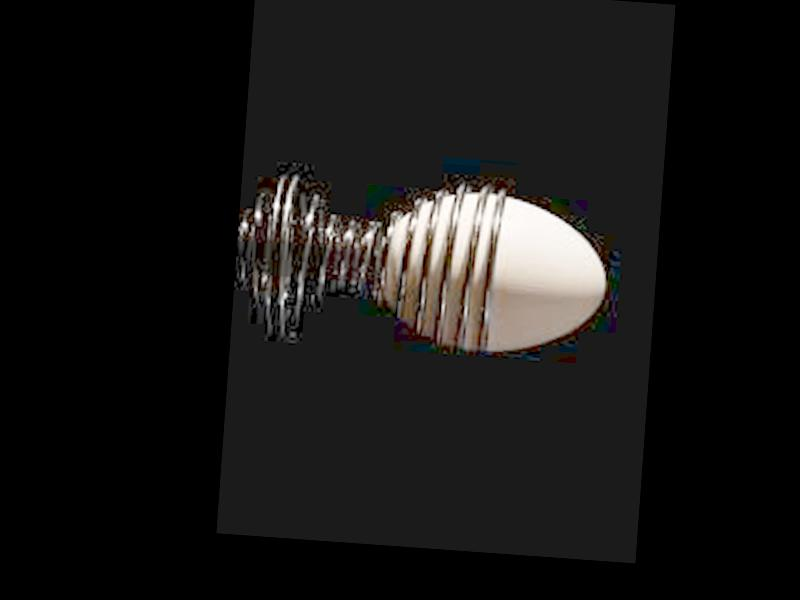Eggs: (379, 186, 612, 358)
